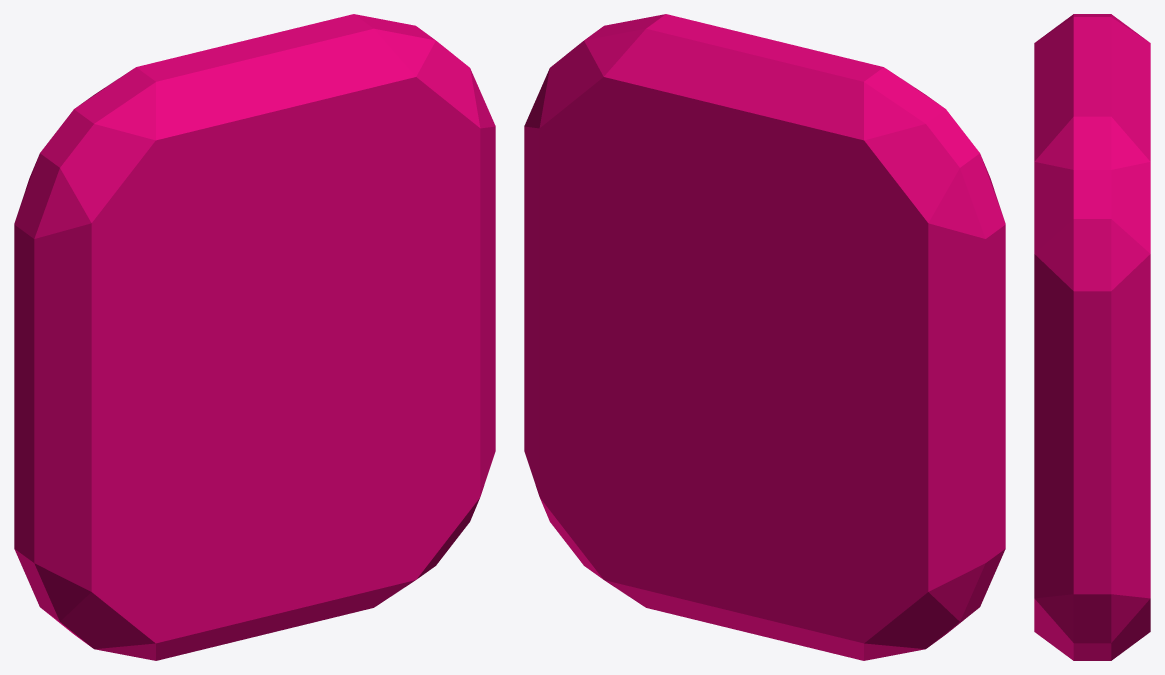
Rendered from gems_005.fbx.
The picture shows the model from 3 angles, left to right: view 1: azimuth 30°, elevation 25°; view 2: azimuth 150°, elevation 25°; view 3: azimuth 270°, elevation 25°; orthographic projection. The views are drawn at different scales.
Parts seen in each view (by area): view 1: gems.005; view 2: gems.005; view 3: gems.005.
Boxes of the visible parts, left/top/right/bottom form: gems.005: left=14, top=14, right=495, bottom=660; gems.005: left=524, top=14, right=1005, bottom=660; gems.005: left=1034, top=14, right=1150, bottom=660.
Bounding box in the file's own units: 9.83 × 11.79 × 2.29.
